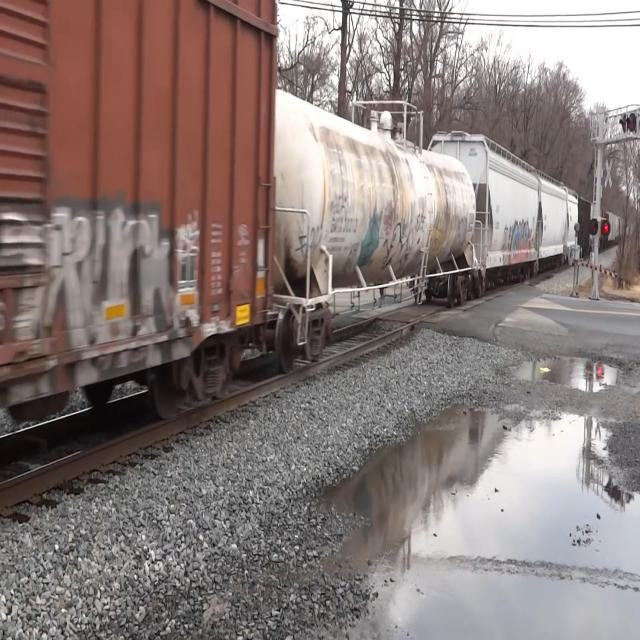boxcar: (1, 4, 274, 467)
hopper: (431, 122, 540, 299)
tank: (276, 74, 490, 369)
